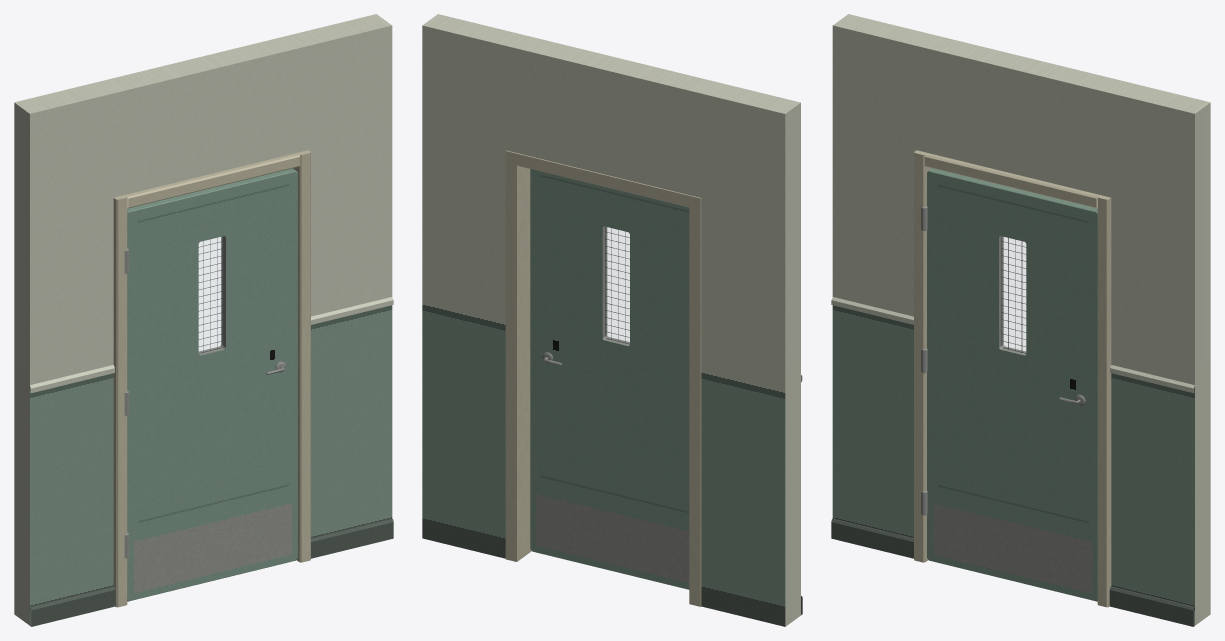
Rendered from door_1b.glb.
3 views of the same model, side by side, from view 1: azimuth 30°, elevation 25°; view 2: azimuth 150°, elevation 25°; view 3: azimuth 330°, elevation 25° (orthographic).
Parts seen in each view (by area): view 1: leaf_faces, wall_left, wall_right, wall_lintel, frame_left, frame_right, door_glass, frame_top, leaf_edge, leaf_window_rim; view 2: leaf_faces, wall_left, wall_right, wall_lintel, frame_right, frame_left, door_glass, frame_top, leaf_window_rim, leaf_edge; view 3: leaf_faces, wall_right, wall_left, wall_lintel, frame_right, frame_left, door_glass, frame_top, leaf_edge, leaf_window_rim.
Boxes of the visible parts, x1,y1,x2,y2 form: leaf_faces: (127,171,297,600); wall_left: (14,81,115,626); wall_right: (291,14,393,558); wall_lintel: (100,35,305,196); frame_left: (113,195,127,607); frame_right: (293,150,310,562); door_glass: (198,236,223,353); frame_top: (125,153,300,208); leaf_edge: (127,168,297,601); leaf_window_rim: (198,236,225,355); leaf_faces: (530,169,689,589); wall_left: (699,81,802,626); wall_right: (422,14,523,558); wall_lintel: (508,35,714,197); frame_right: (505,150,531,561); frame_left: (689,195,701,606); door_glass: (605,227,629,344); frame_top: (517,153,689,207); leaf_window_rim: (602,226,629,346); leaf_edge: (530,169,688,589); leaf_faces: (927,171,1097,600); wall_right: (1109,81,1210,626); wall_left: (831,14,933,558); wall_lintel: (919,35,1124,196); frame_right: (1097,195,1111,607); frame_left: (914,150,931,562); door_glass: (1001,236,1026,353); frame_top: (924,153,1099,208); leaf_edge: (927,168,1097,601); leaf_window_rim: (999,236,1026,355).
Size of the model in its own units: 2 by 2.7 by 0.2094.
2 materials, 2 textured.
